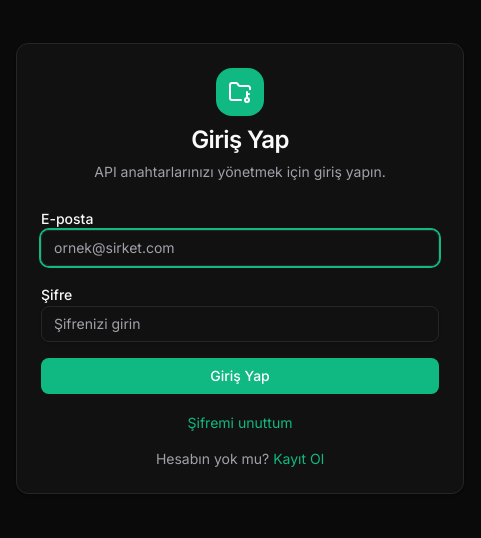
LoginPage › bos form gonderildiginde hata gosterir
Step 1. Click the button "Giriş Yap" → [240, 376], box [41, 358, 439, 394]
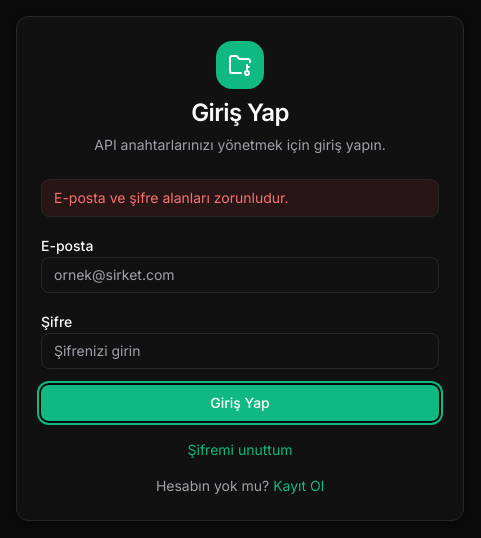
Result: the text "E-posta ve şifre alanları zorunludur." is shown at [41, 178, 439, 216]
